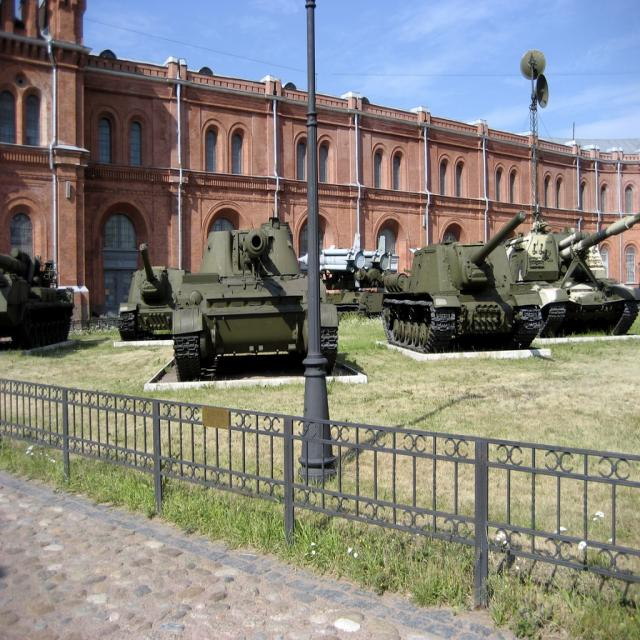tank: (172, 216, 338, 382), (170, 215, 338, 376), (380, 208, 544, 352), (380, 208, 542, 352), (504, 204, 639, 338), (504, 210, 639, 336), (0, 247, 76, 348), (0, 249, 74, 349), (118, 238, 187, 339), (118, 242, 186, 338), (322, 264, 410, 320), (324, 268, 407, 318)
